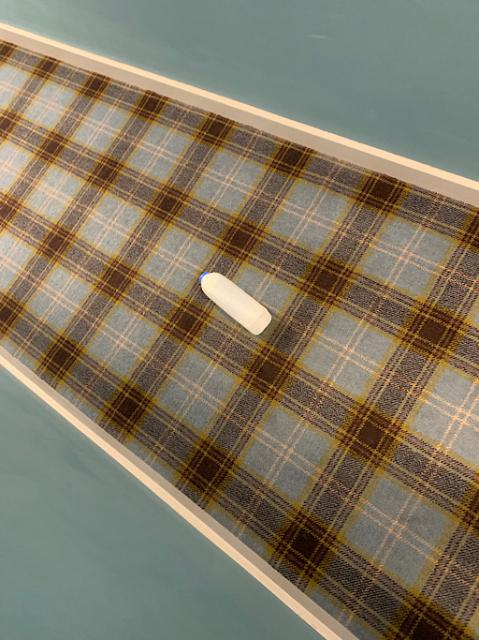plastic: (199, 272, 270, 333)
